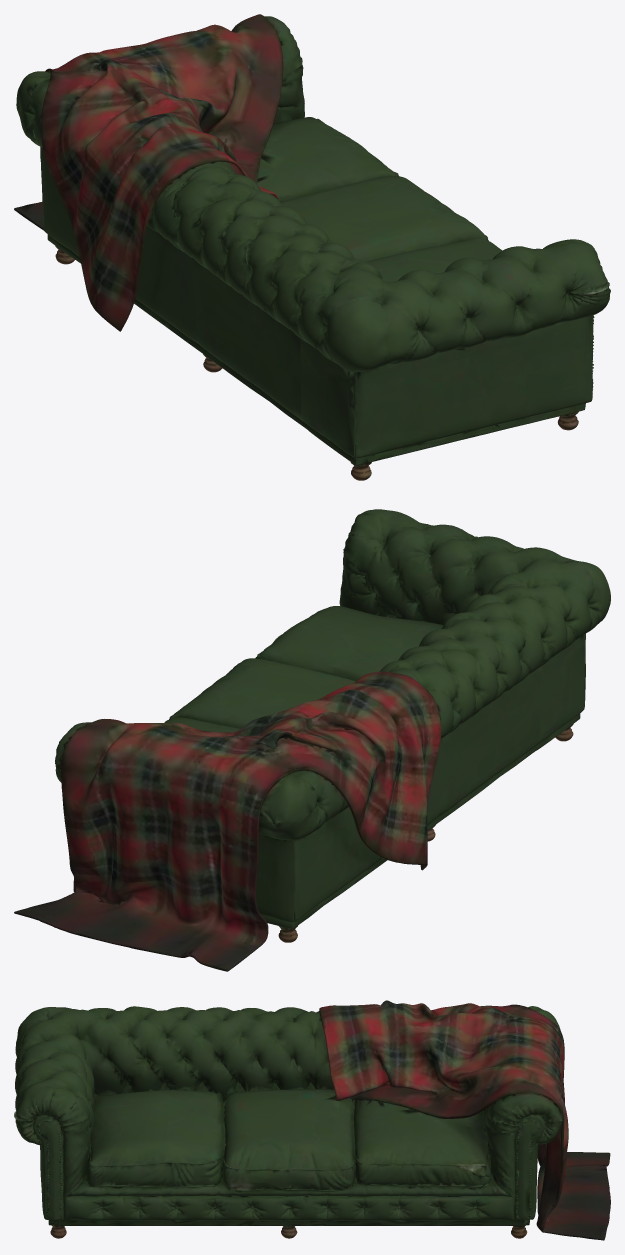
The model's file is bg_sofa.glb.
The picture shows the model from 3 angles, top to bottom: view 1: azimuth 30°, elevation 25°; view 2: azimuth 150°, elevation 25°; view 3: azimuth 270°, elevation 25°; orthographic projection. The views are drawn at different scales.
Visible parts, largest first — view 1: tripo_node_294cf6f1-e49d-421c-b7bb-56d05ed97cba; view 2: tripo_node_294cf6f1-e49d-421c-b7bb-56d05ed97cba; view 3: tripo_node_294cf6f1-e49d-421c-b7bb-56d05ed97cba.
Part boxes in pixels (bbox=[...]): tripo_node_294cf6f1-e49d-421c-b7bb-56d05ed97cba: bbox=[14, 14, 610, 480]; tripo_node_294cf6f1-e49d-421c-b7bb-56d05ed97cba: bbox=[14, 509, 610, 971]; tripo_node_294cf6f1-e49d-421c-b7bb-56d05ed97cba: bbox=[14, 1000, 610, 1240].
Size of the model in its own units: 0.4454 by 0.2896 by 0.9814.
Materials: 1 (1 with a texture image).
